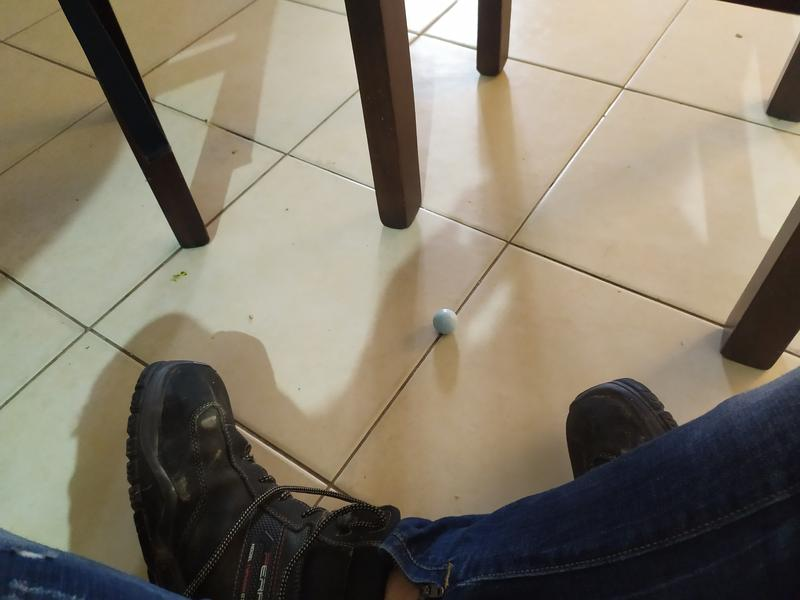Warning: (431, 307, 460, 336)
